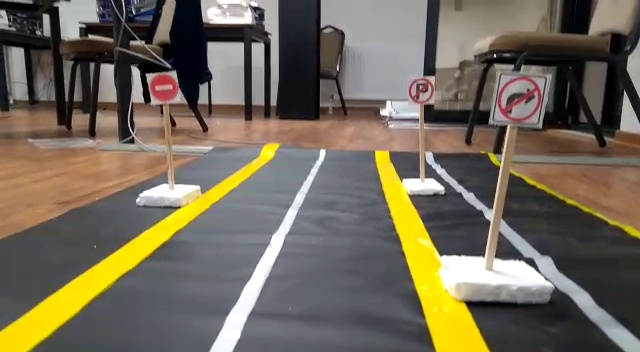girisi_olmayan_yol: (146, 72, 180, 103)
park_yapilmaz: (408, 77, 436, 105)
saga_donulmez: (498, 73, 544, 122)
